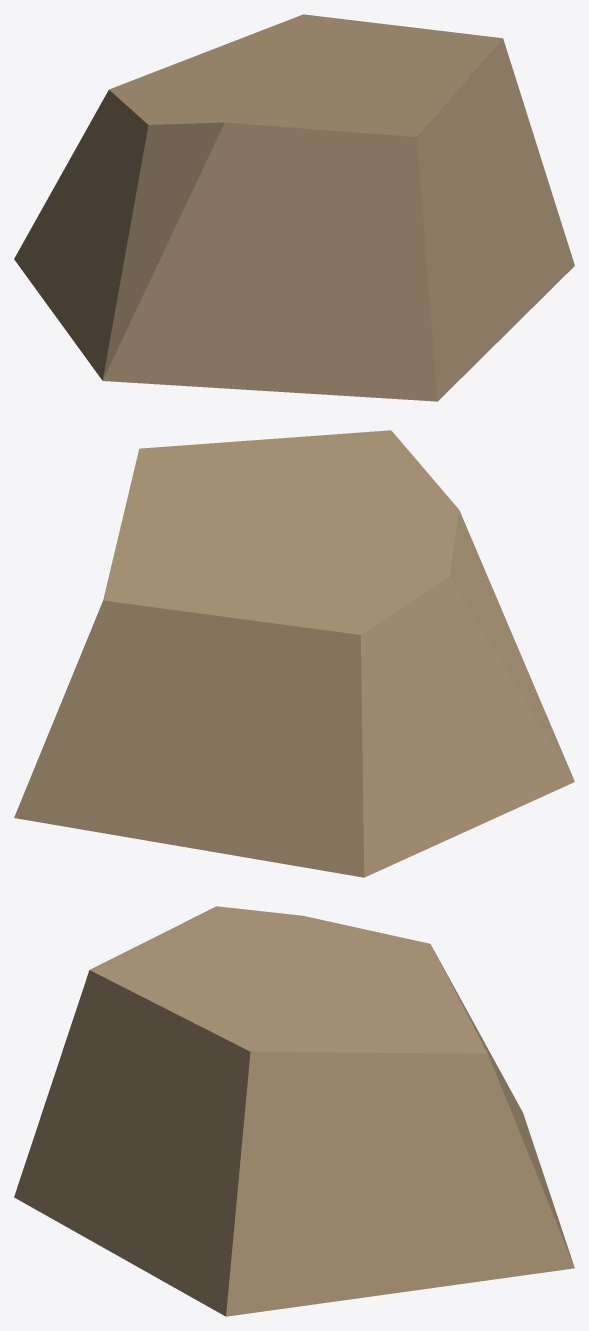
Rendered from TB_D_Env_StoneF_B.FBX.
3 views of the same model, one above another, from view 1: azimuth 30°, elevation 25°; view 2: azimuth 150°, elevation 25°; view 3: azimuth 270°, elevation 25° (orthographic). The views are drawn at different scales.
Visible parts, largest first — view 1: TB_D_Env_StoneF_B; view 2: TB_D_Env_StoneF_B; view 3: TB_D_Env_StoneF_B.
Part boxes in pixels (x1,y1,x2,y2): TB_D_Env_StoneF_B: [14, 14, 574, 401]; TB_D_Env_StoneF_B: [14, 430, 574, 877]; TB_D_Env_StoneF_B: [14, 906, 574, 1316].
Bounding box in the file's own units: 0.4834 × 0.228 × 0.4922.
